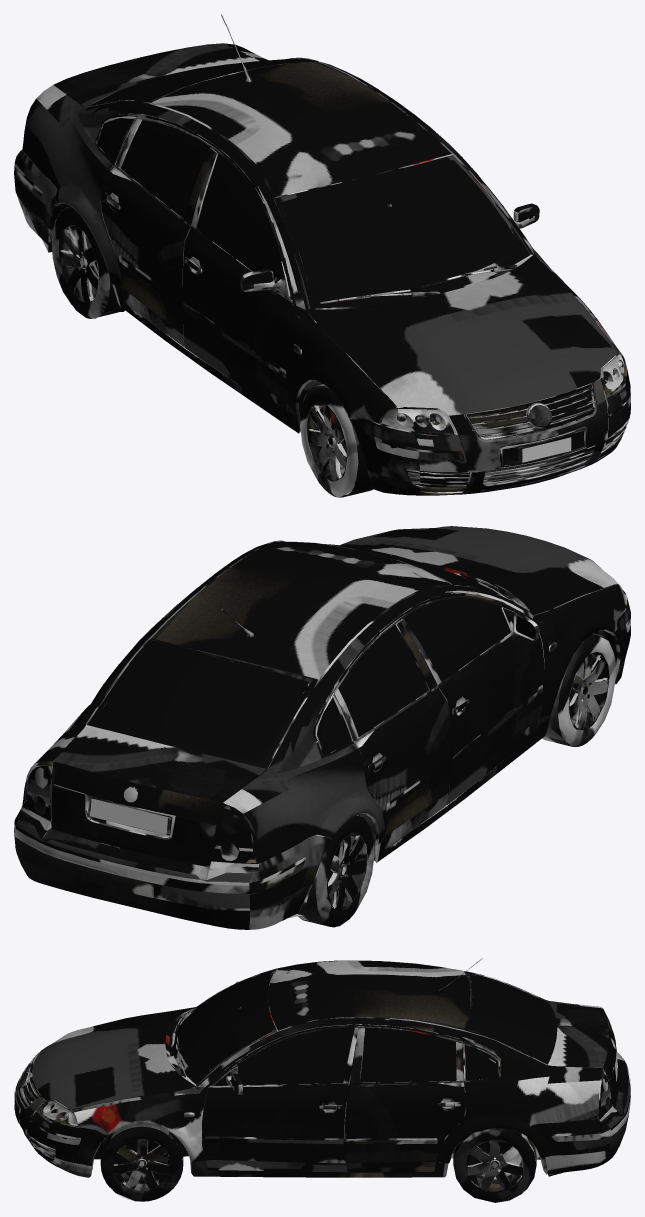
Rendered from Passat.fbx.
3 renders of one model, top to bottom at view 1: azimuth 30°, elevation 25°; view 2: azimuth 150°, elevation 25°; view 3: azimuth 270°, elevation 25°, orthographic. The views are drawn at different scales.
Visible parts, largest first — view 1: TRAFFIC_001 Body, TRAFFIC_001 Glass, TRAFFIC_001 WFR, TRAFFIC_001 WRR, Light_LOD0, Interior_LOD0, Object001; view 2: TRAFFIC_001 Body, TRAFFIC_001 Glass, TRAFFIC_001 WFR, TRAFFIC_001 WRR, Object001, Interior_LOD0; view 3: TRAFFIC_001 Body, TRAFFIC_001 Glass, TRAFFIC_001 WFL, TRAFFIC_001 WRL, Interior_LOD0, Light_LOD0.
Part boxes in pixels (<box>): TRAFFIC_001 Body: <box>14,14,630,495</box>; TRAFFIC_001 Glass: <box>95,58,521,298</box>; TRAFFIC_001 WFR: <box>300,384,373,497</box>; TRAFFIC_001 WRR: <box>51,206,124,318</box>; Light_LOD0: <box>379,353,626,435</box>; Interior_LOD0: <box>96,59,528,403</box>; Object001: <box>522,437,571,462</box>; TRAFFIC_001 Body: <box>14,526,630,929</box>; TRAFFIC_001 Glass: <box>94,544,511,762</box>; TRAFFIC_001 WFR: <box>542,633,616,746</box>; TRAFFIC_001 WRR: <box>298,815,374,927</box>; Object001: <box>90,798,167,834</box>; Interior_LOD0: <box>94,541,517,832</box>; TRAFFIC_001 Body: <box>14,958,630,1177</box>; TRAFFIC_001 Glass: <box>178,971,554,1085</box>; TRAFFIC_001 WFL: <box>100,1124,183,1201</box>; TRAFFIC_001 WRL: <box>453,1127,536,1202</box>; Interior_LOD0: <box>187,974,548,1161</box>; Light_LOD0: <box>36,1100,77,1126</box>.
Size of what is drawn, in the model's own units: 2.15 by 5.37 by 1.91.
